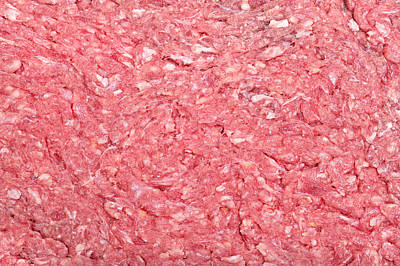ground_beef: (15, 14, 383, 260)
